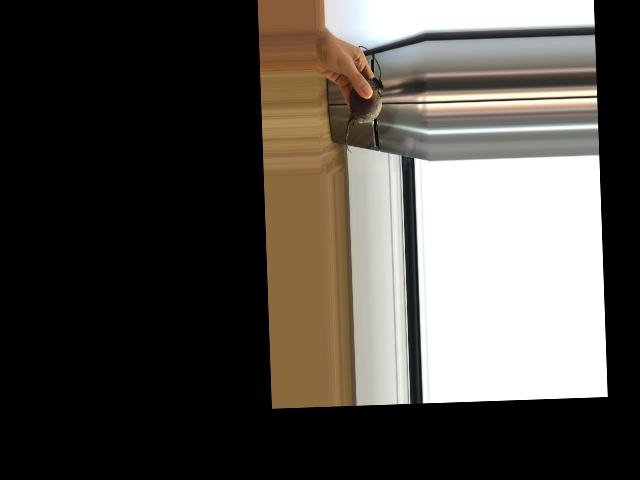beet: (342, 45, 385, 154)
